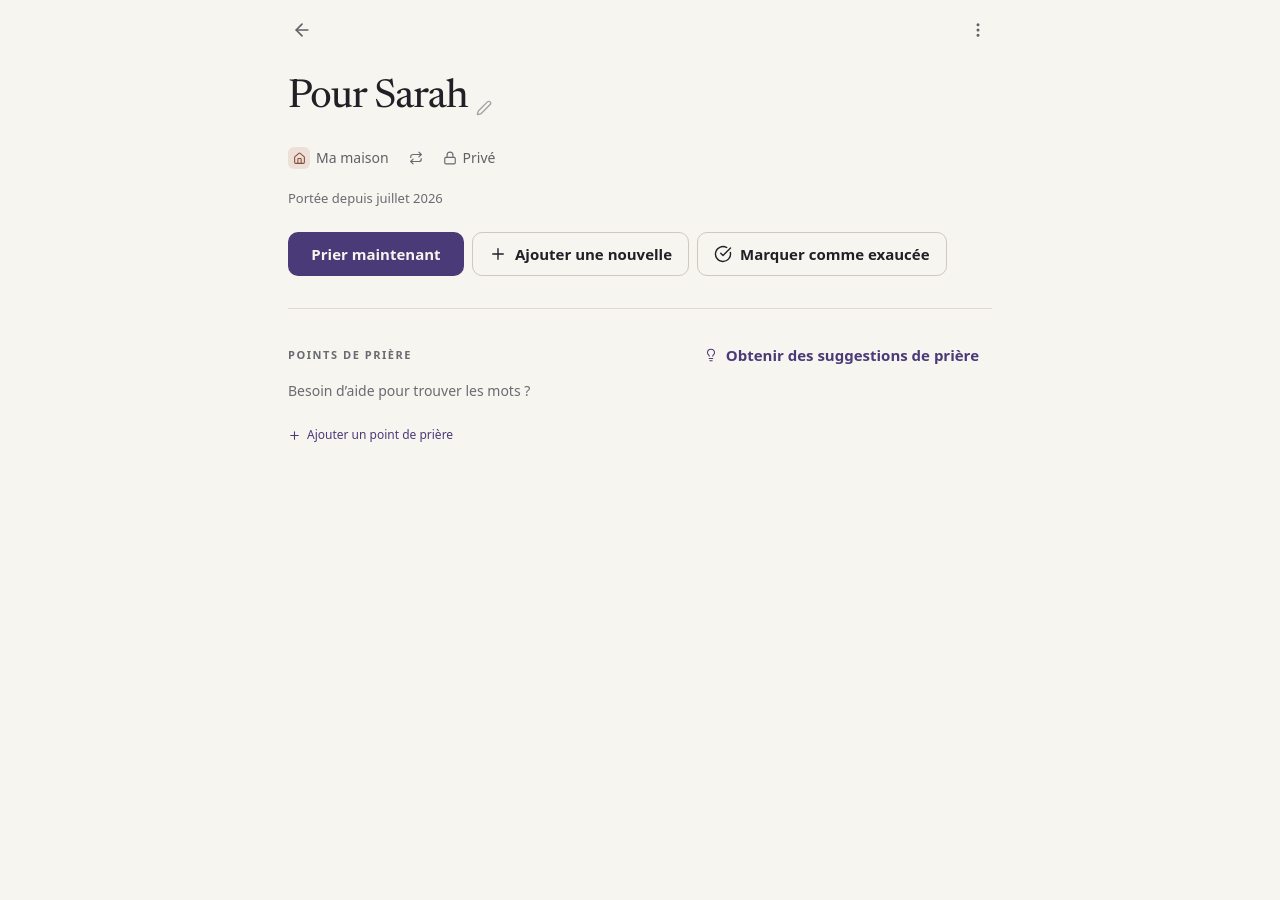
Scenario: PrayerDetail — the circle › changes the circle in place, and nothing else
The width and height of the screenshot is (1280, 900).
Click the button "Ma maison": click(338, 158) left=288, top=136, right=389, bottom=180
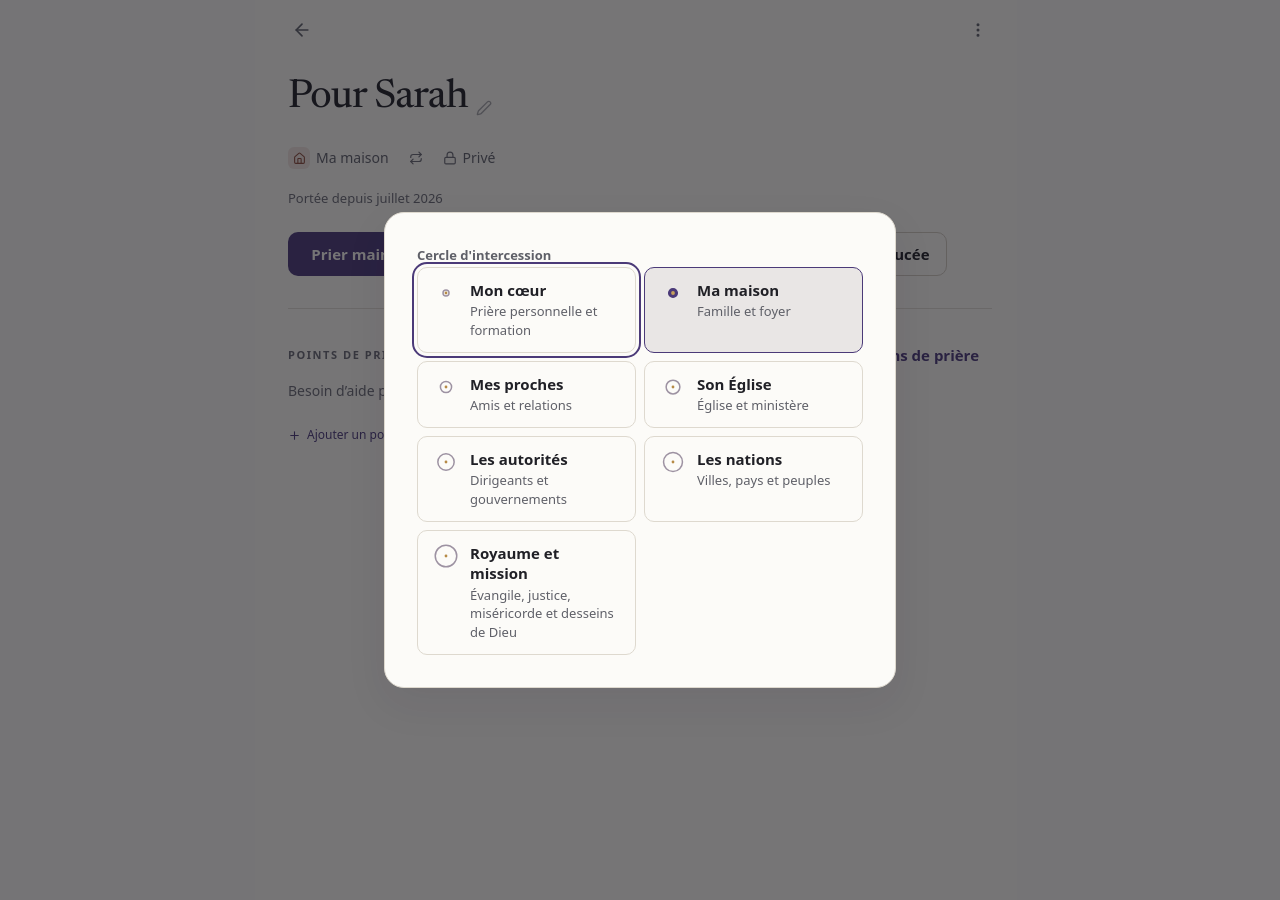
Click the button "Mes proches Amis et relations": click(526, 395) left=417, top=361, right=636, bottom=428
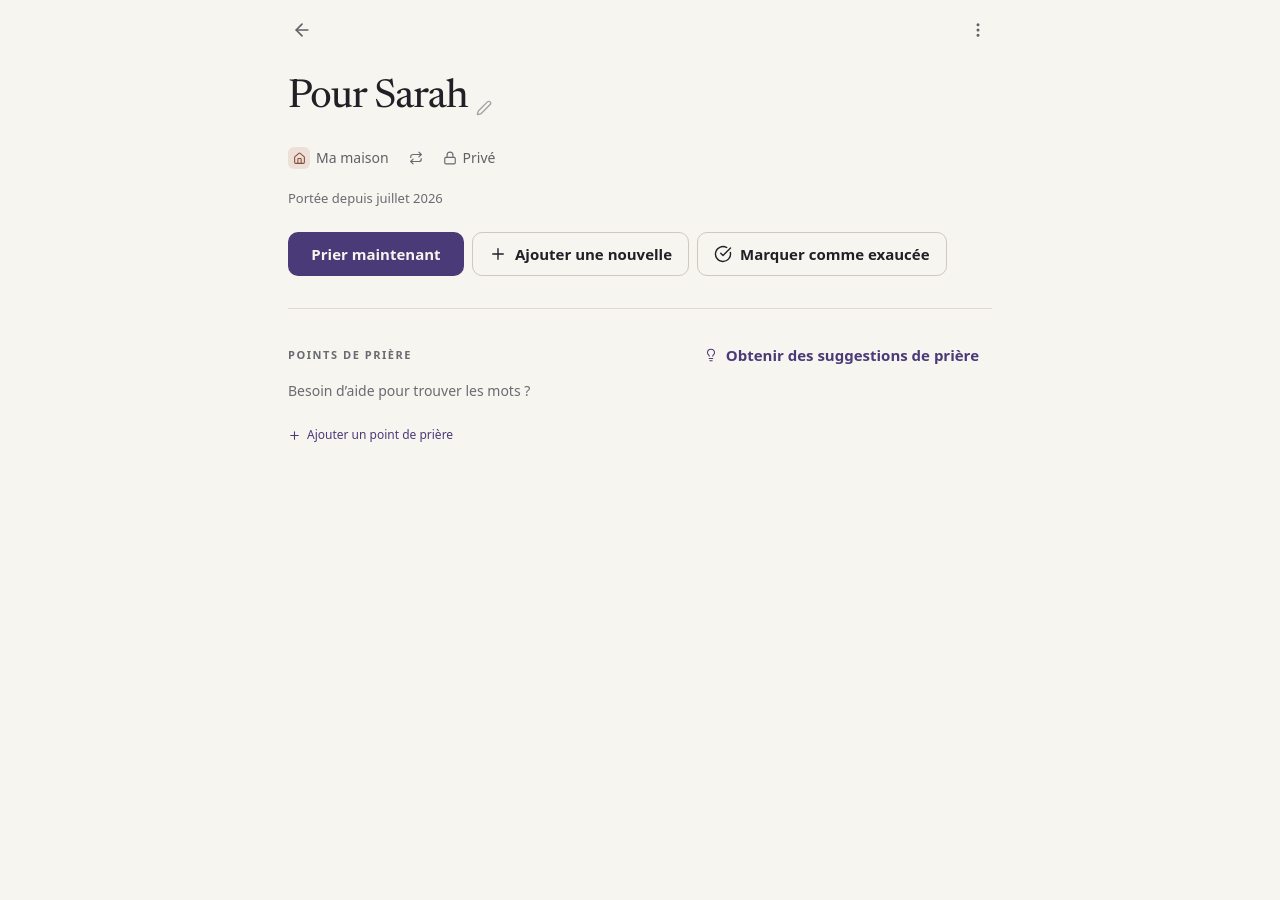
Expected: the dialog is gone
